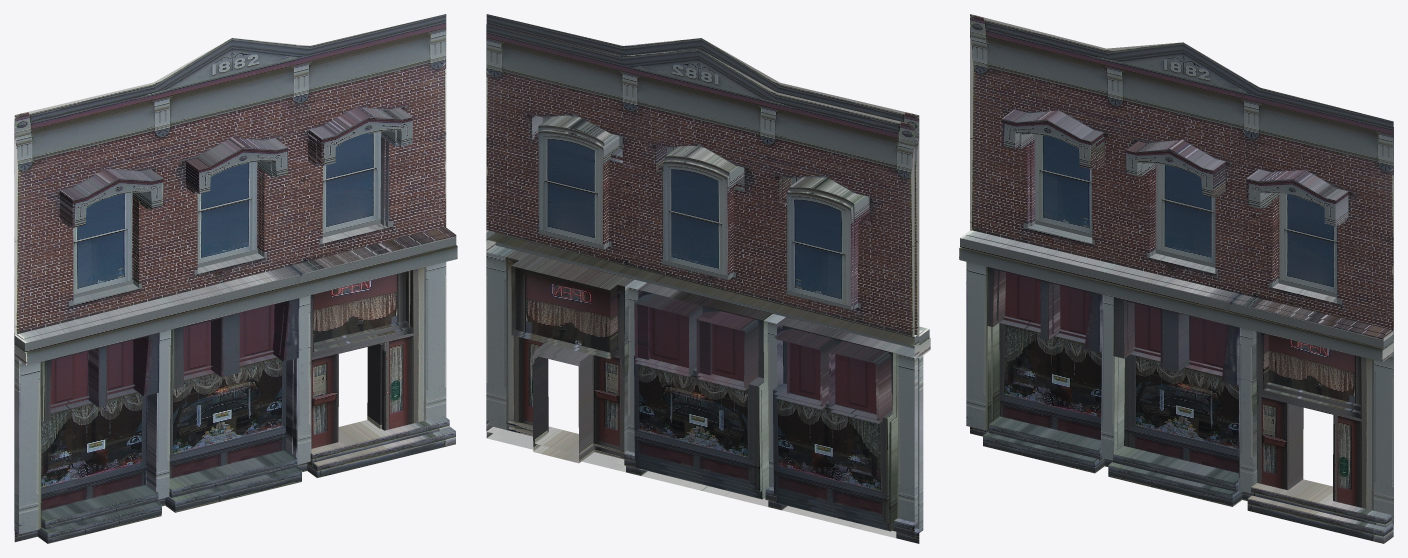
Rendered from fakeStore.fbx.
The picture shows the model from 3 angles, left to right: view 1: azimuth 30°, elevation 25°; view 2: azimuth 150°, elevation 25°; view 3: azimuth 330°, elevation 25°; orthographic projection. The views are drawn at different scales.
Visible parts, largest first — view 1: Polygon_1, Polygon; view 2: Polygon, Polygon_1; view 3: Polygon_1, Polygon.
Boxes of the visible parts, left/top/right/bottom form: Polygon_1: left=14, top=14, right=457, bottom=543; Polygon: left=14, top=121, right=449, bottom=530; Polygon: left=486, top=24, right=923, bottom=535; Polygon_1: left=486, top=14, right=930, bottom=543; Polygon_1: left=959, top=14, right=1393, bottom=543; Polygon: left=966, top=127, right=1393, bottom=527.
Bounding box in the file's own units: 100 × 100 × 11.33.
Materials: 1 (1 with a texture image).
